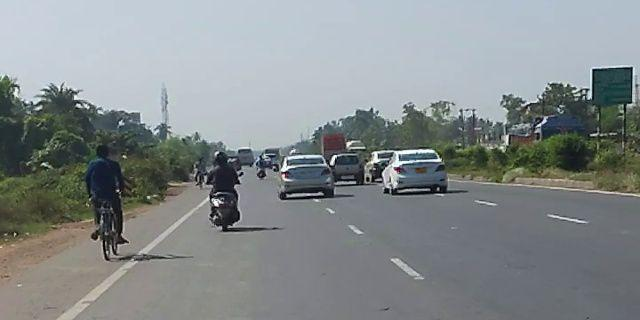Car: (379, 148, 452, 198), (275, 152, 338, 202), (331, 152, 367, 188)
Cycle: (81, 143, 129, 265)
Motorbike: (203, 147, 243, 236)
